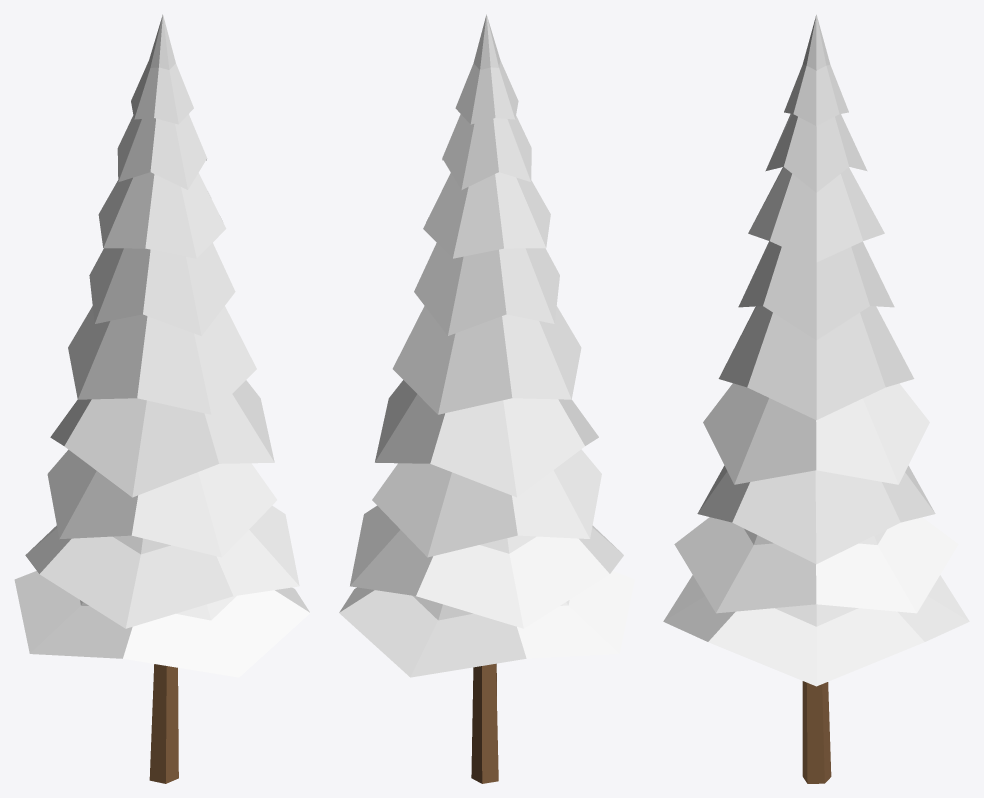
Rendered from Pine_Tree_OneSided_l_Snow_01_LOD.fbx.
3 views of the same model, side by side, from view 1: azimuth 30°, elevation 25°; view 2: azimuth 150°, elevation 25°; view 3: azimuth 270°, elevation 25° (orthographic).
Visible parts, largest first — view 1: Pine_Tree_OneSided_l_Snow_01_LOD0; view 2: Pine_Tree_OneSided_l_Snow_01_LOD0; view 3: Pine_Tree_OneSided_l_Snow_01_LOD0.
Part boxes in pixels (bbox=[...]): Pine_Tree_OneSided_l_Snow_01_LOD0: bbox=[14, 14, 309, 783]; Pine_Tree_OneSided_l_Snow_01_LOD0: bbox=[339, 14, 634, 783]; Pine_Tree_OneSided_l_Snow_01_LOD0: bbox=[663, 14, 969, 783].
Size of what is drawn, in the model's own units: 718 by 1975 by 718.
